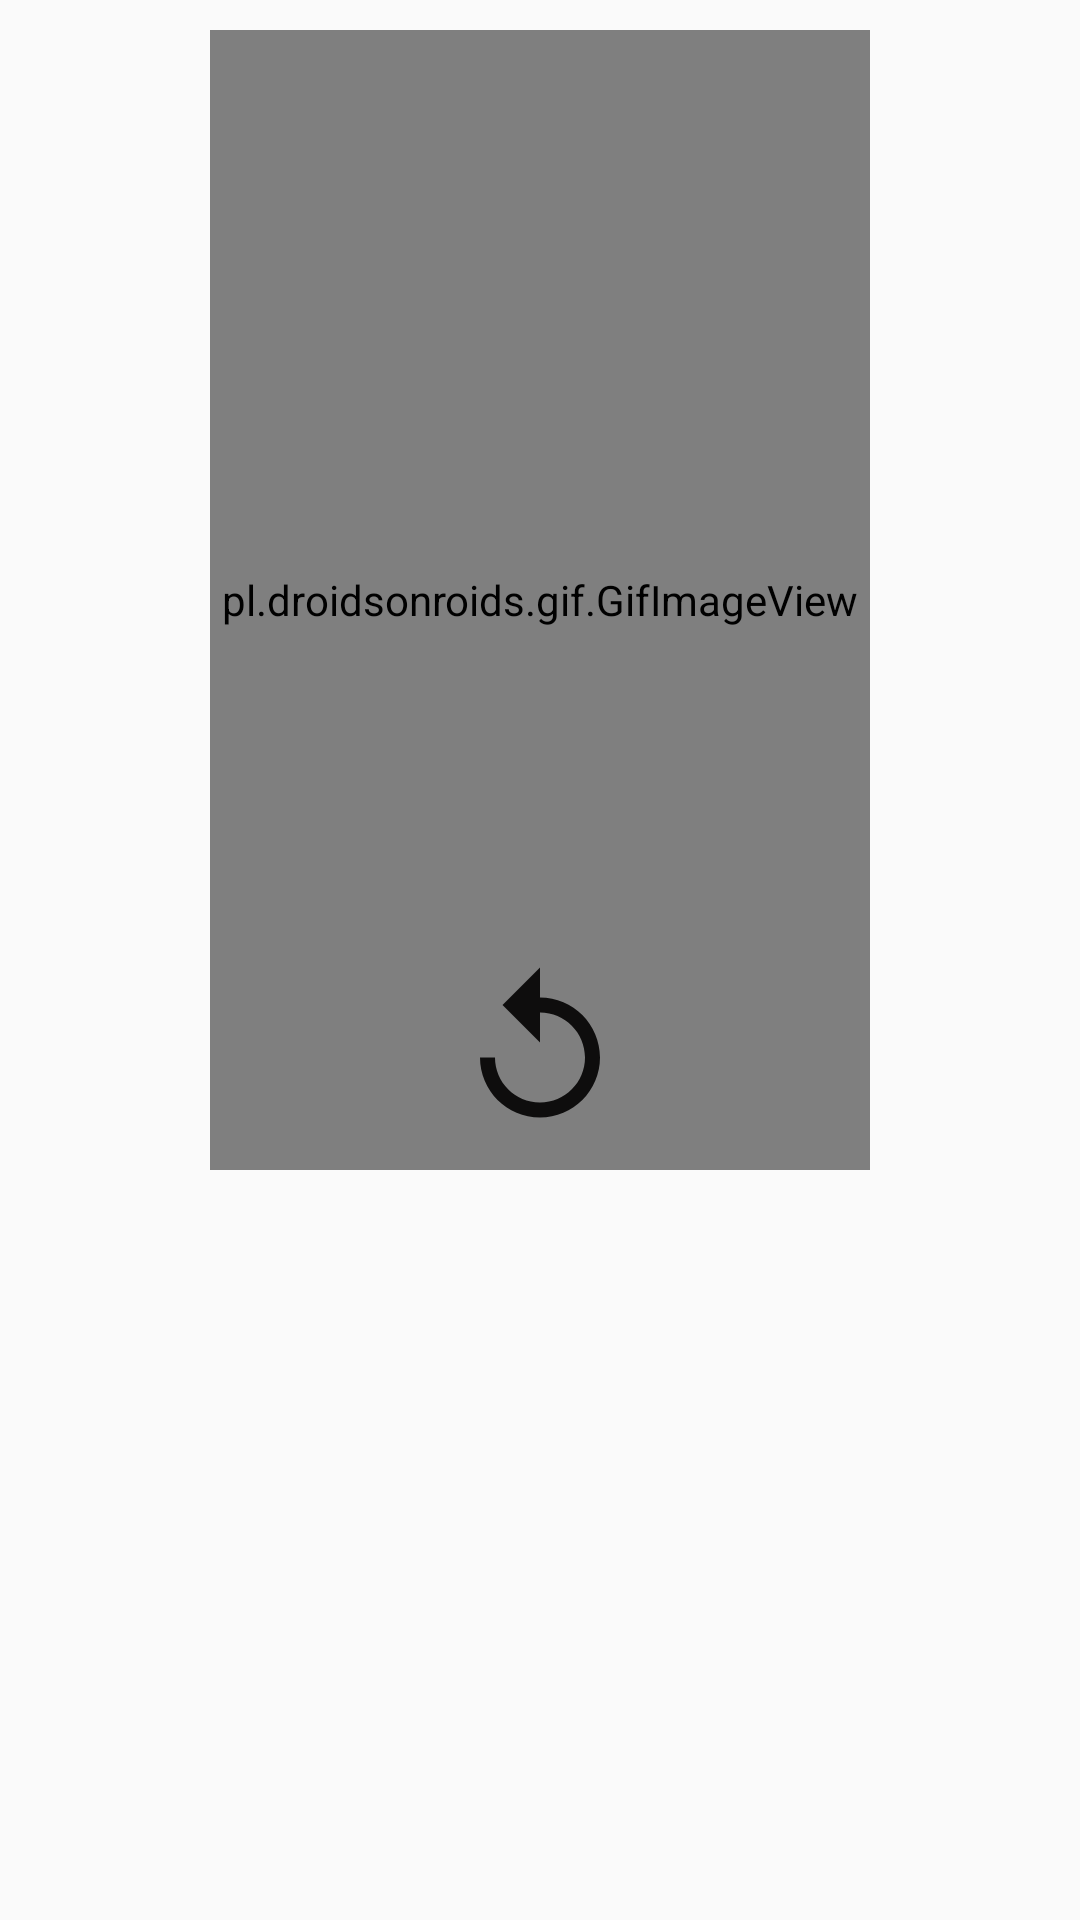

Icons on this 1080 × 1920 Android screen, each with the point to tap as (x=x, y=y):
repeat: (x=540, y=1043)
